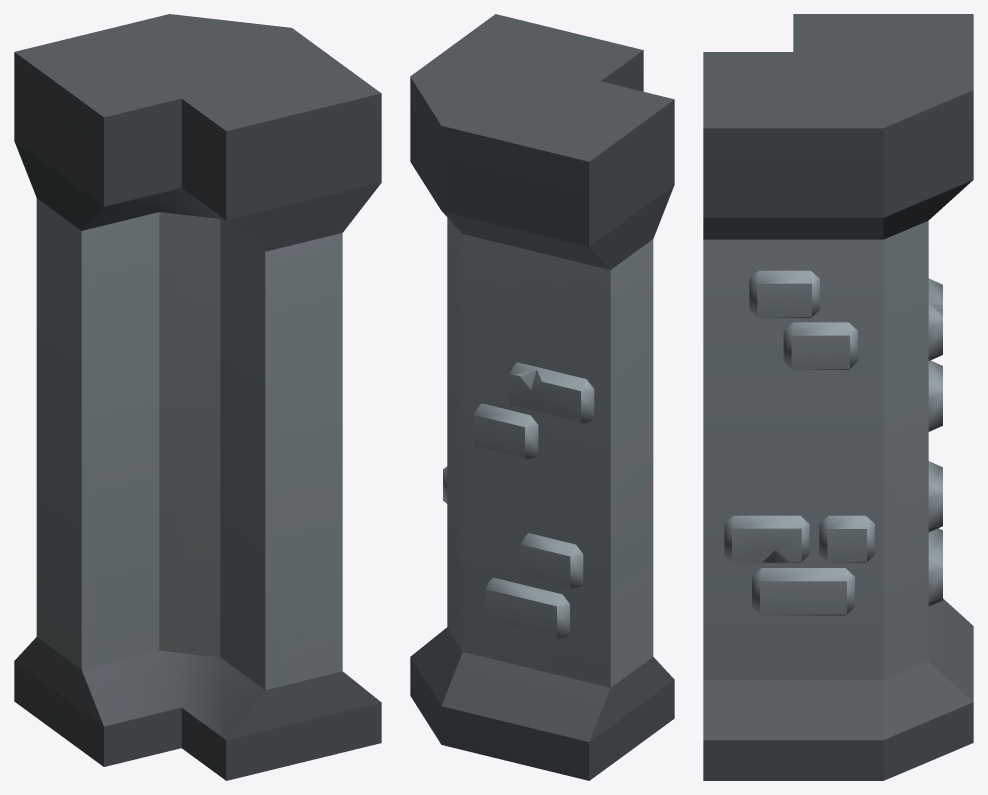
The model's file is kaykit-dungeon-remastered-wall-corner-small-gltf.glb.
3 views of the same model, side by side, from view 1: azimuth 30°, elevation 25°; view 2: azimuth 150°, elevation 25°; view 3: azimuth 270°, elevation 25° (orthographic). The views are drawn at different scales.
Visible parts, largest first — view 1: wall_corner_small; view 2: wall_corner_small; view 3: wall_corner_small.
Boxes of the visible parts, x1,y1,x2,y2 form: wall_corner_small: (14,14,381,780); wall_corner_small: (410,14,674,780); wall_corner_small: (703,14,973,780).
Bounding box in the file's own units: 1.5 × 4 × 1.5.
1 material, 1 textured.
